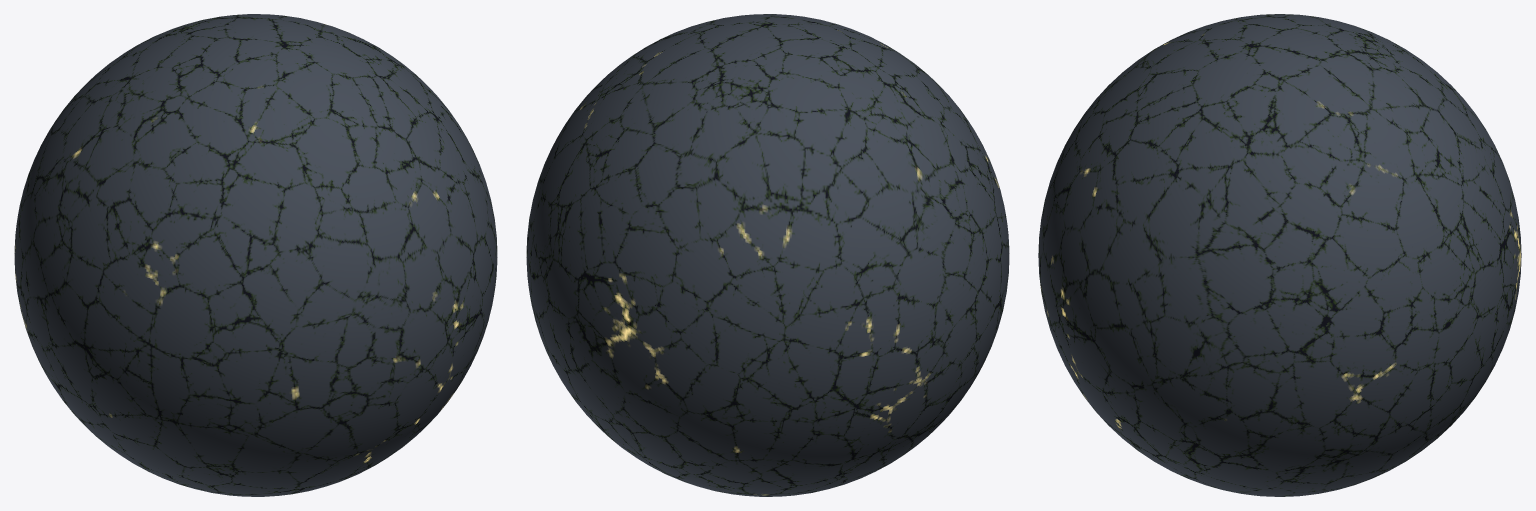
The model's file is ubados.glb.
The picture shows the model from 3 angles, left to right: view 1: azimuth 30°, elevation 25°; view 2: azimuth 150°, elevation 25°; view 3: azimuth 270°, elevation 25°; orthographic projection.
Parts seen in each view (by area): view 1: Baked; view 2: Baked; view 3: Baked.
Part boxes in pixels (<box>): Baked: <box>14,14,497,496</box>; Baked: <box>526,14,1009,496</box>; Baked: <box>1038,14,1521,496</box>.
Bounding box in the file's own units: 2 × 2 × 2.
Materials: 1 (1 with a texture image).
